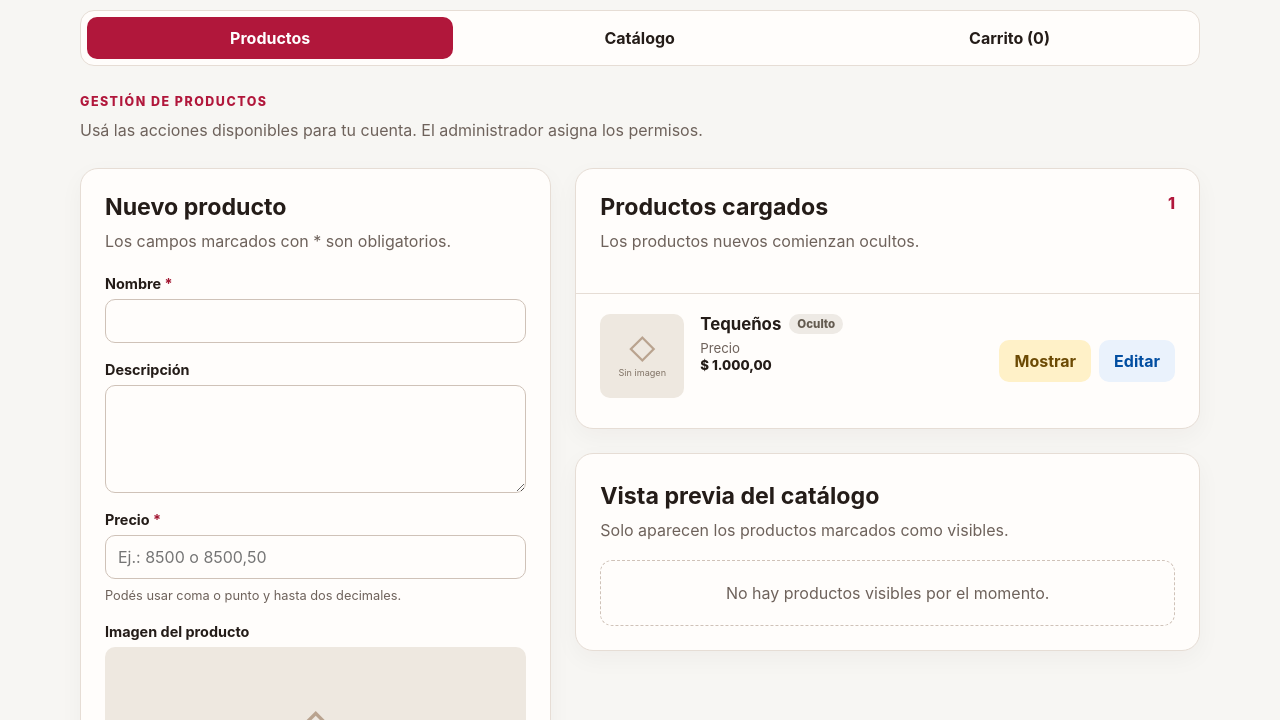
Test: CP-PERSIST-03: una actualización denegada no cambia la visibilidad local
(page scrolled)
What coordinates should you click on to do the following:
click the button with aria-label "Mostrar Tequeños en el catálogo público"
I would click on:
 (1045, 361)
Its box is [1000,340,1091,382].
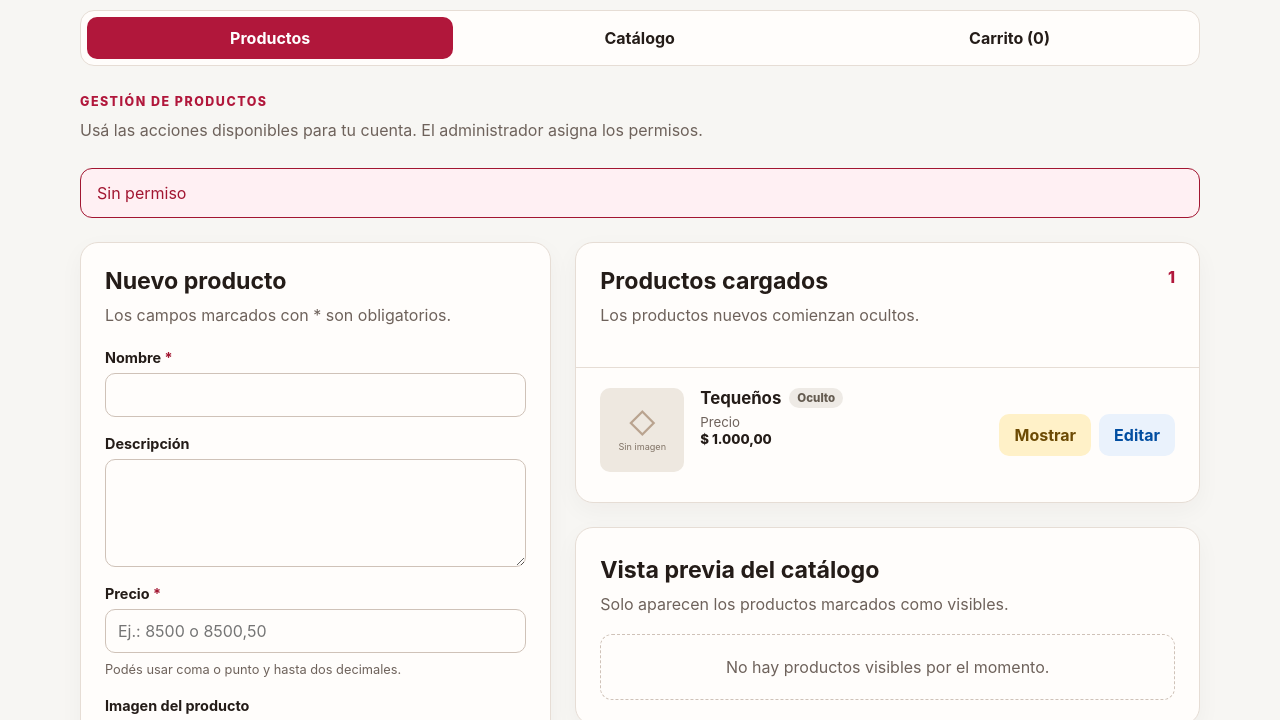
Expected: the text "Oculto" is shown, [789,388,843,408]
Expected: the message reads "Sin permiso", [97,183,186,203]
